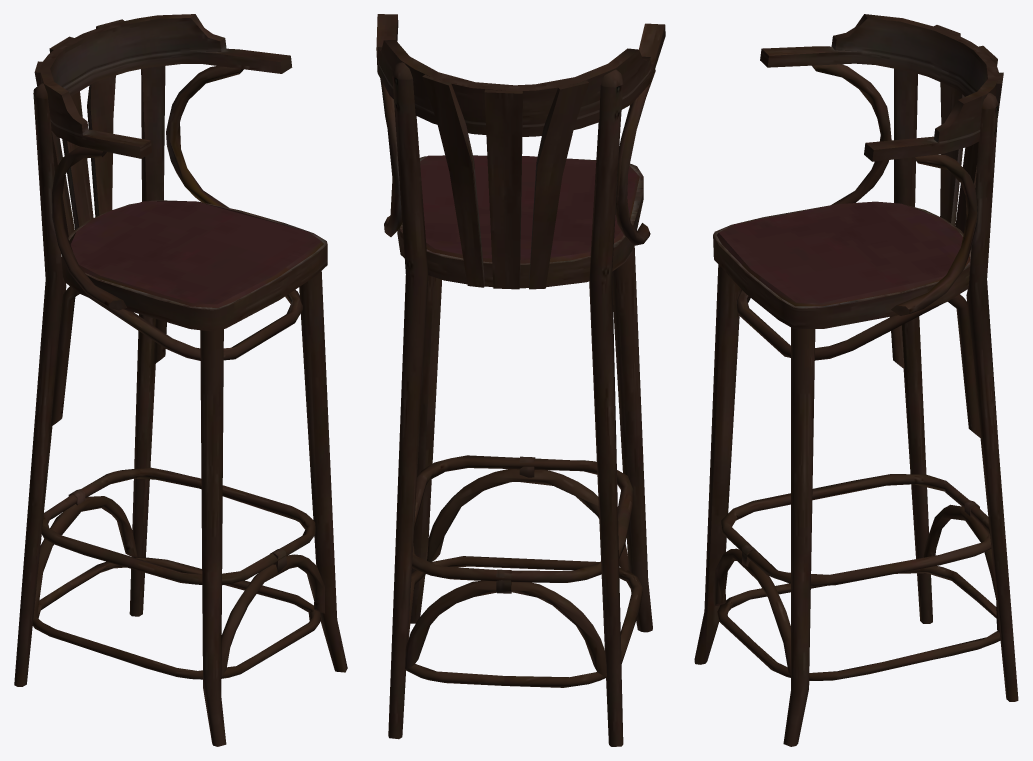
3 views of the same model, side by side, from view 1: azimuth 30°, elevation 25°; view 2: azimuth 150°, elevation 25°; view 3: azimuth 270°, elevation 25° (orthographic). The views are drawn at different scales.
Parts seen in each view (by area): view 1: Bistro_Research_Interior_Paris_Barstool_01A_2106; view 2: Bistro_Research_Interior_Paris_Barstool_01A_2106; view 3: Bistro_Research_Interior_Paris_Barstool_01A_2106.
Part boxes in pixels (<box>): Bistro_Research_Interior_Paris_Barstool_01A_2106: <box>14,14,347,746</box>; Bistro_Research_Interior_Paris_Barstool_01A_2106: <box>376,14,665,746</box>; Bistro_Research_Interior_Paris_Barstool_01A_2106: <box>694,14,1018,746</box>.
Size of the model in its own units: 0.4475 by 0.9822 by 0.4709.
Materials: 1 (1 with a texture image).
